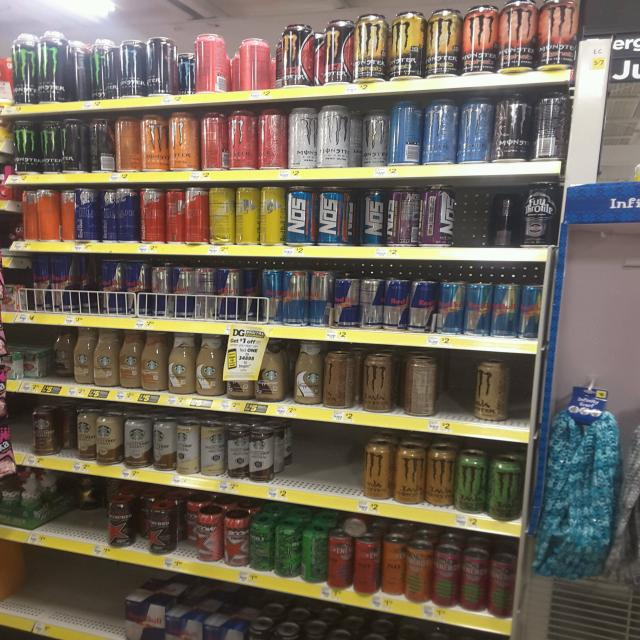empty: (18, 541, 126, 637), (268, 433, 368, 503), (431, 355, 483, 427), (442, 188, 498, 251)
